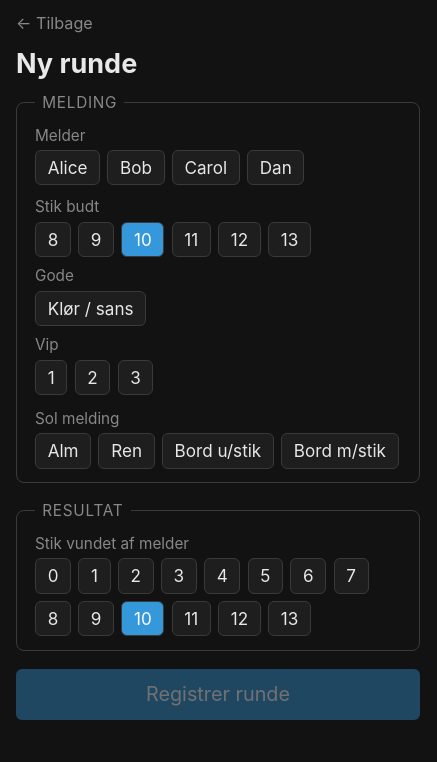
Test case: Round screen - Frants › shows Modstandere once melder is selected
The image size is (437, 762).
Step 1. Click the button "Alice" → [68, 168], box [35,150,100,186]
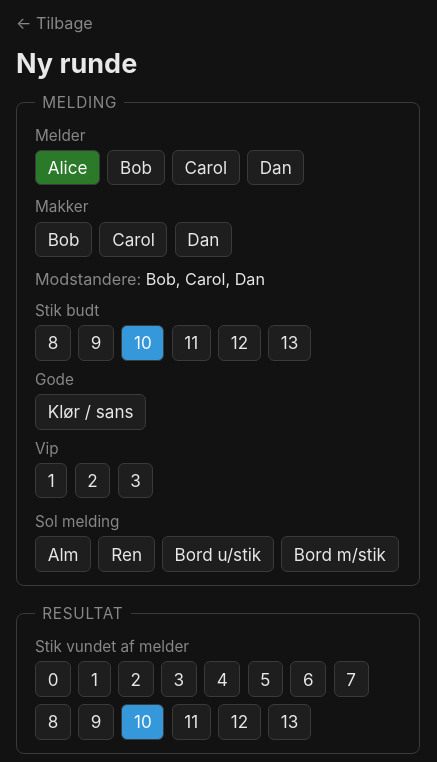
Now the text "Modstandere:" is shown, box [35,269,146,289]
